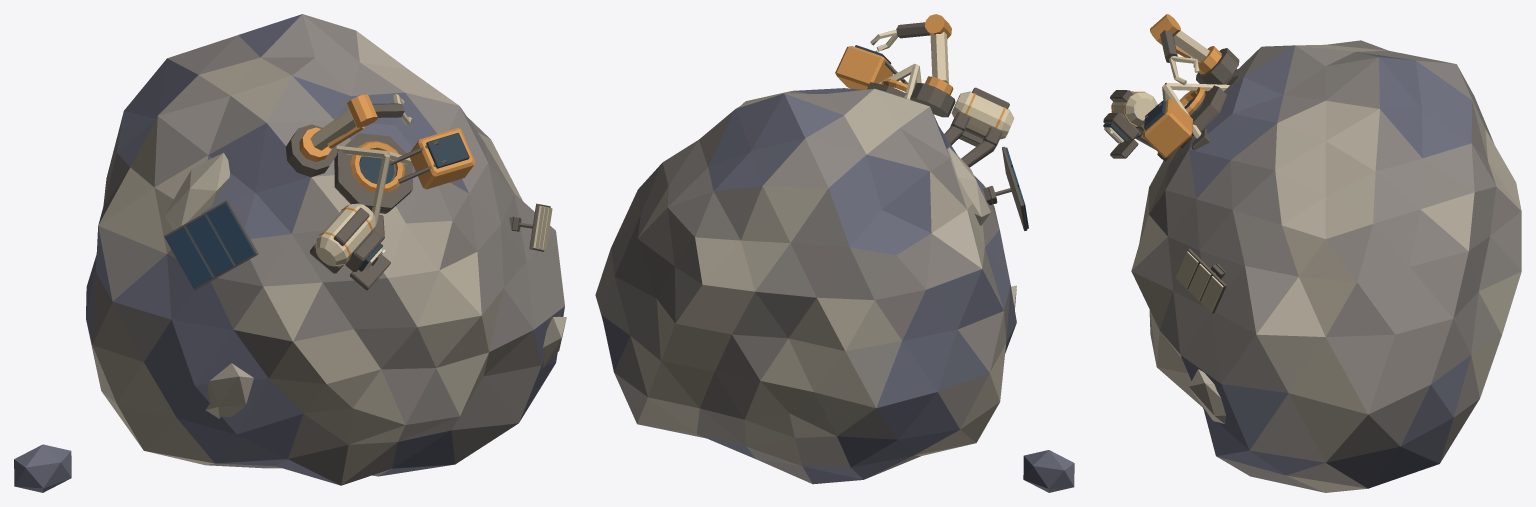
The model's file is asteroids.glb.
3 views of the same model, side by side, from view 1: azimuth 30°, elevation 25°; view 2: azimuth 150°, elevation 25°; view 3: azimuth 270°, elevation 25° (orthographic). The views are drawn at different scales.
Visible parts, largest first — view 1: S2_asteroids • modeled surfaces; view 2: S2_asteroids • modeled surfaces; view 3: S2_asteroids • modeled surfaces.
Boxes of the visible parts, box(x1,y1,x2,y2) form: S2_asteroids • modeled surfaces: box(14, 14, 566, 492); S2_asteroids • modeled surfaces: box(595, 14, 1074, 492); S2_asteroids • modeled surfaces: box(1103, 14, 1521, 492).
Size of the model in its own units: 1.9 by 1.56 by 1.44.
